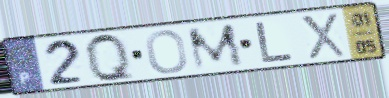2: (43, 36, 89, 89)
L: (252, 20, 297, 65)
M: (184, 21, 247, 73)
O: (143, 28, 190, 76)
Q: (83, 31, 139, 84)
X: (298, 11, 349, 61)
